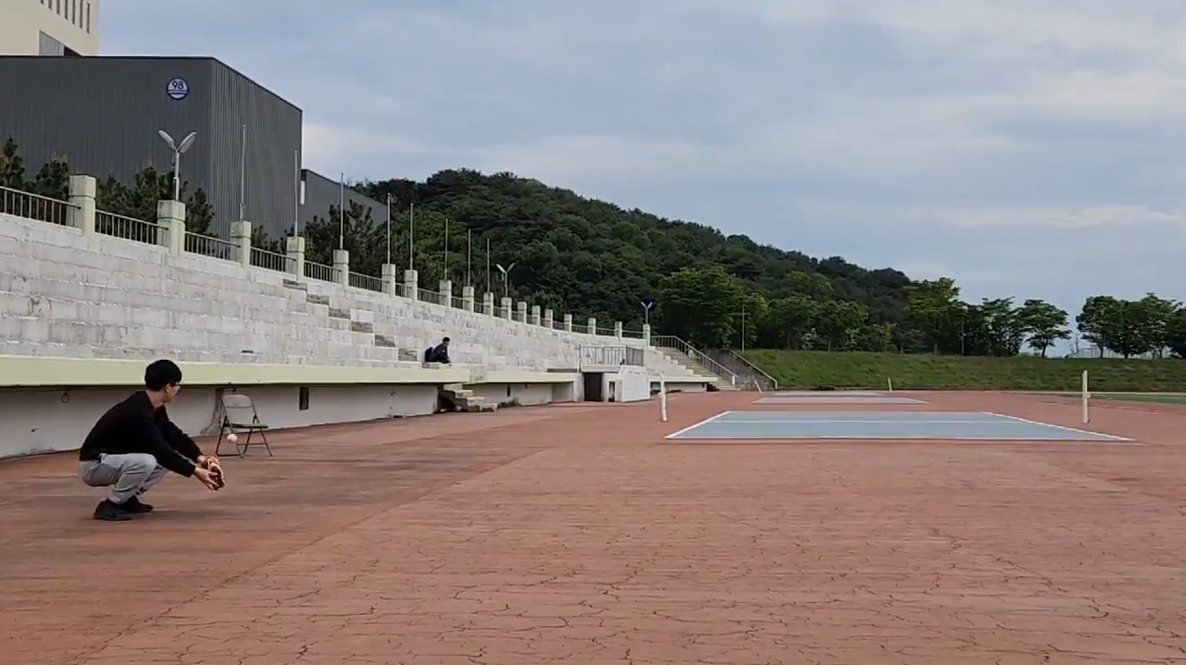ball: (225, 433, 238, 444)
